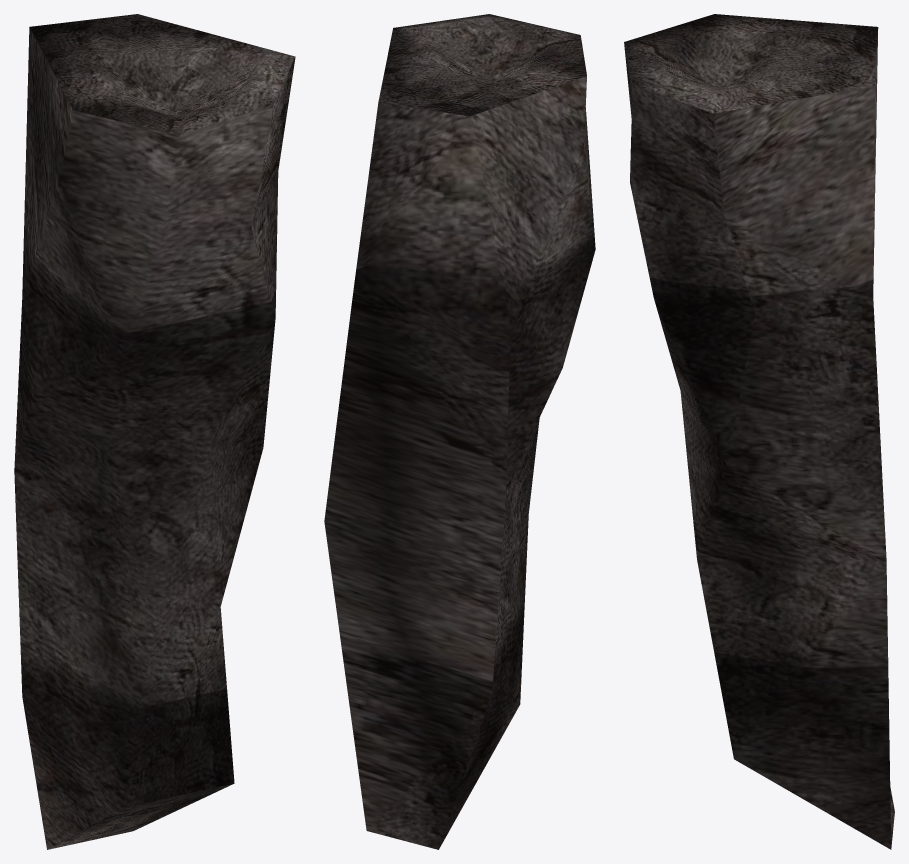
File: ORC_WALL_FIRE_01.glb
The picture shows the model from 3 angles, left to right: view 1: azimuth 30°, elevation 25°; view 2: azimuth 150°, elevation 25°; view 3: azimuth 270°, elevation 25°; orthographic projection. The views are drawn at different scales.
Visible parts, largest first — view 1: Mesh; view 2: Mesh; view 3: Mesh.
Part boxes in pixels (left/top/right/bottom): Mesh: left=14, top=14, right=295, bottom=849; Mesh: left=324, top=14, right=595, bottom=849; Mesh: left=624, top=14, right=894, bottom=849.
Bounding box in the file's own units: 0.8435 × 2.97 × 0.9438.
1 material, 1 textured.
